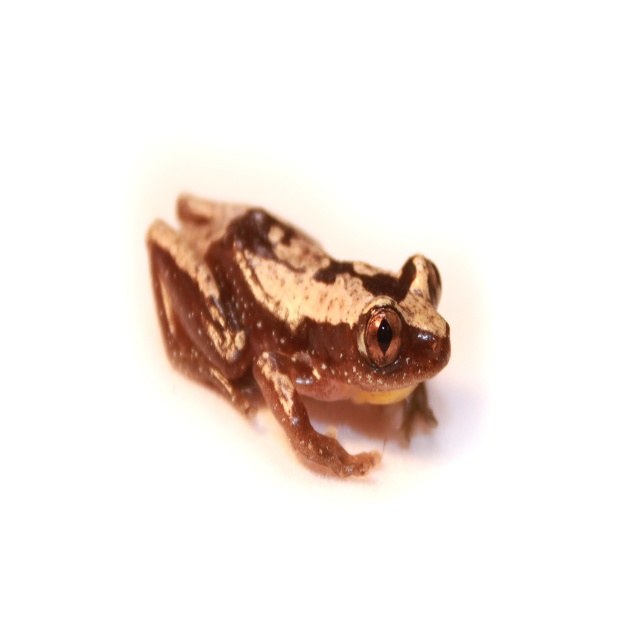Frog: (143, 190, 452, 482)
